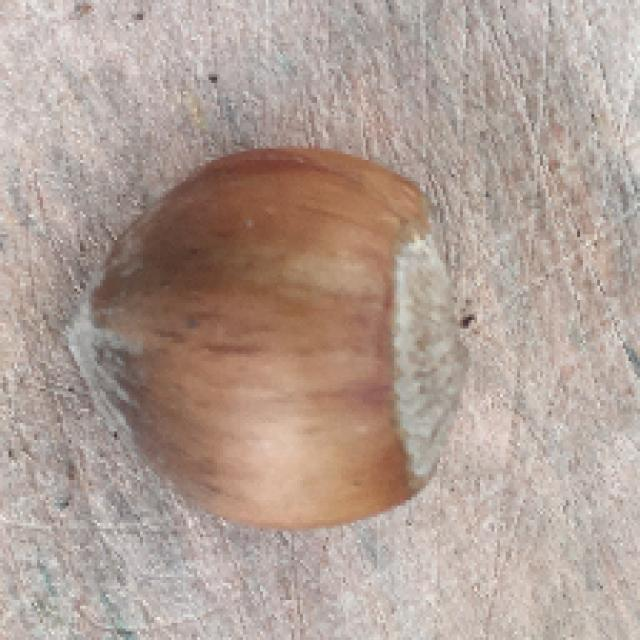damagedHazelnut: (63, 144, 471, 532)
